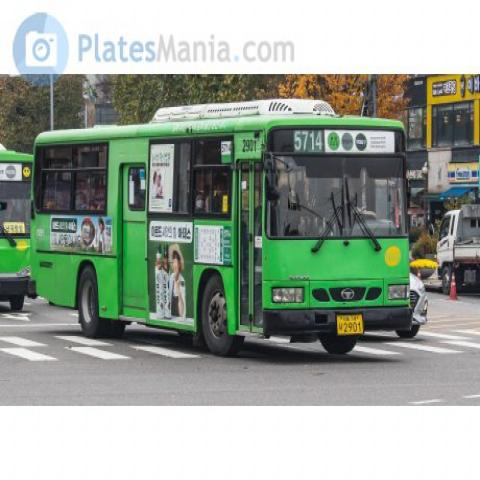LP: (332, 304, 370, 343)
